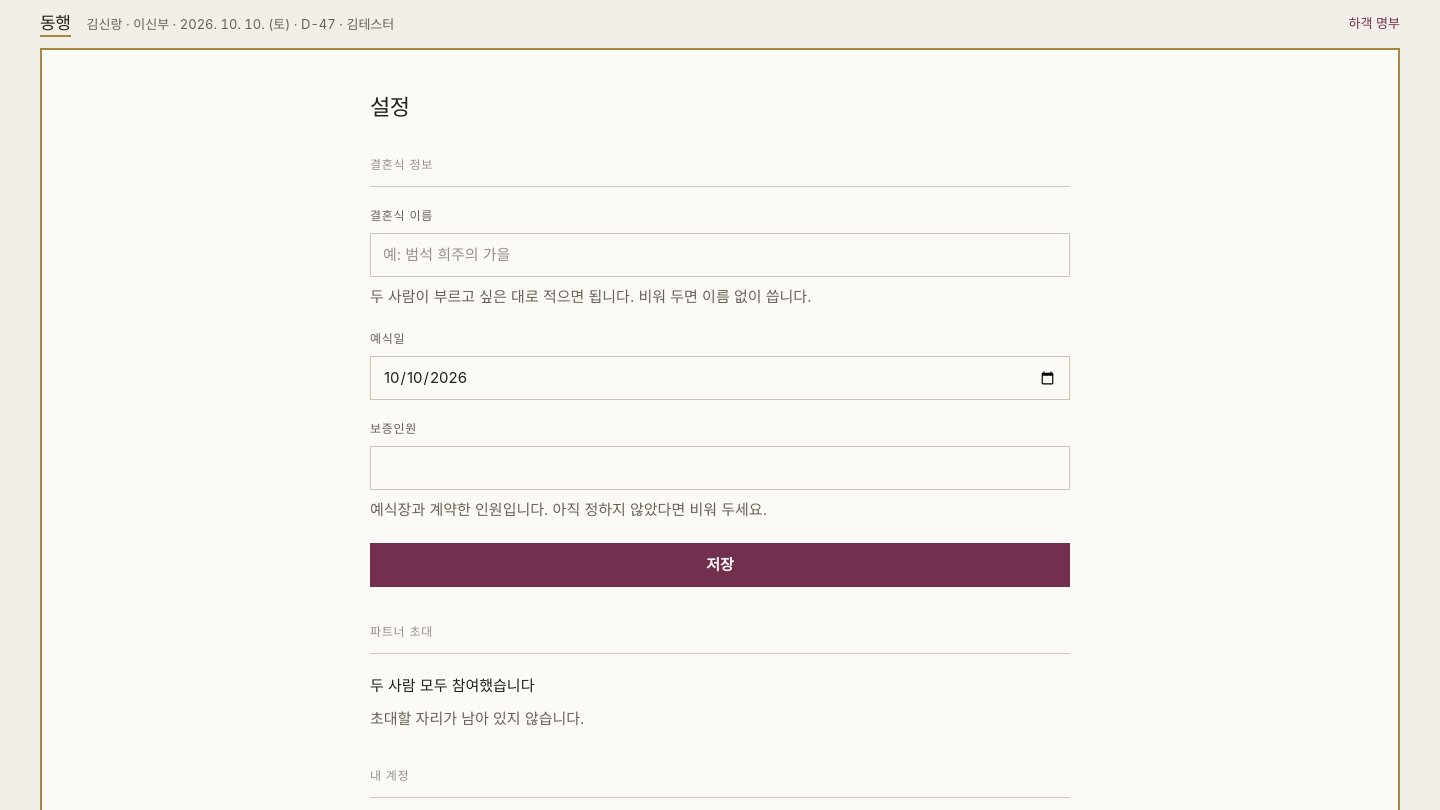
refuses to send a blank 예식일, because a wedding always has a date
Clear the date field labelled "예식일": (720, 378) [370, 356, 1070, 400]
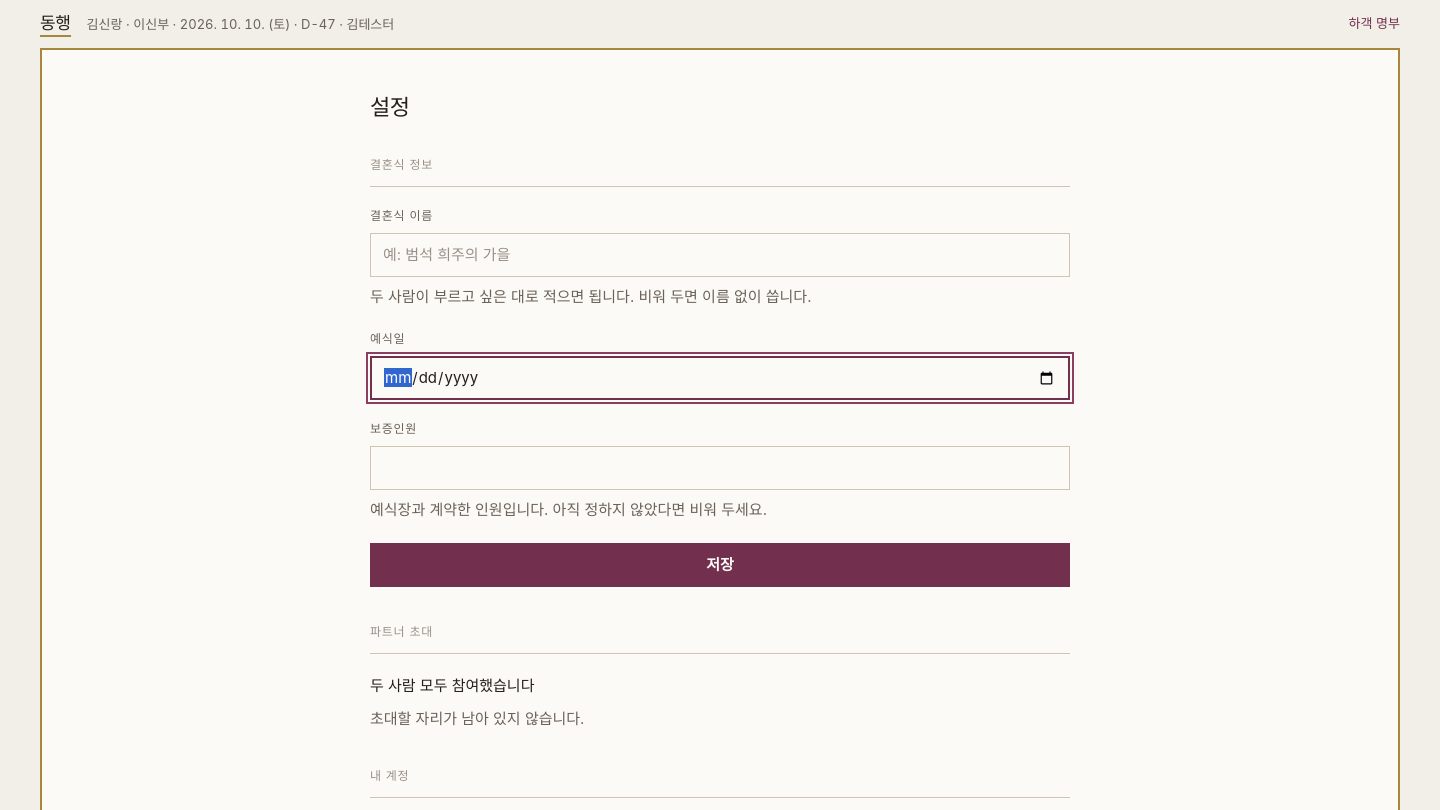
Click the button "저장": (720, 565) [370, 543, 1070, 587]
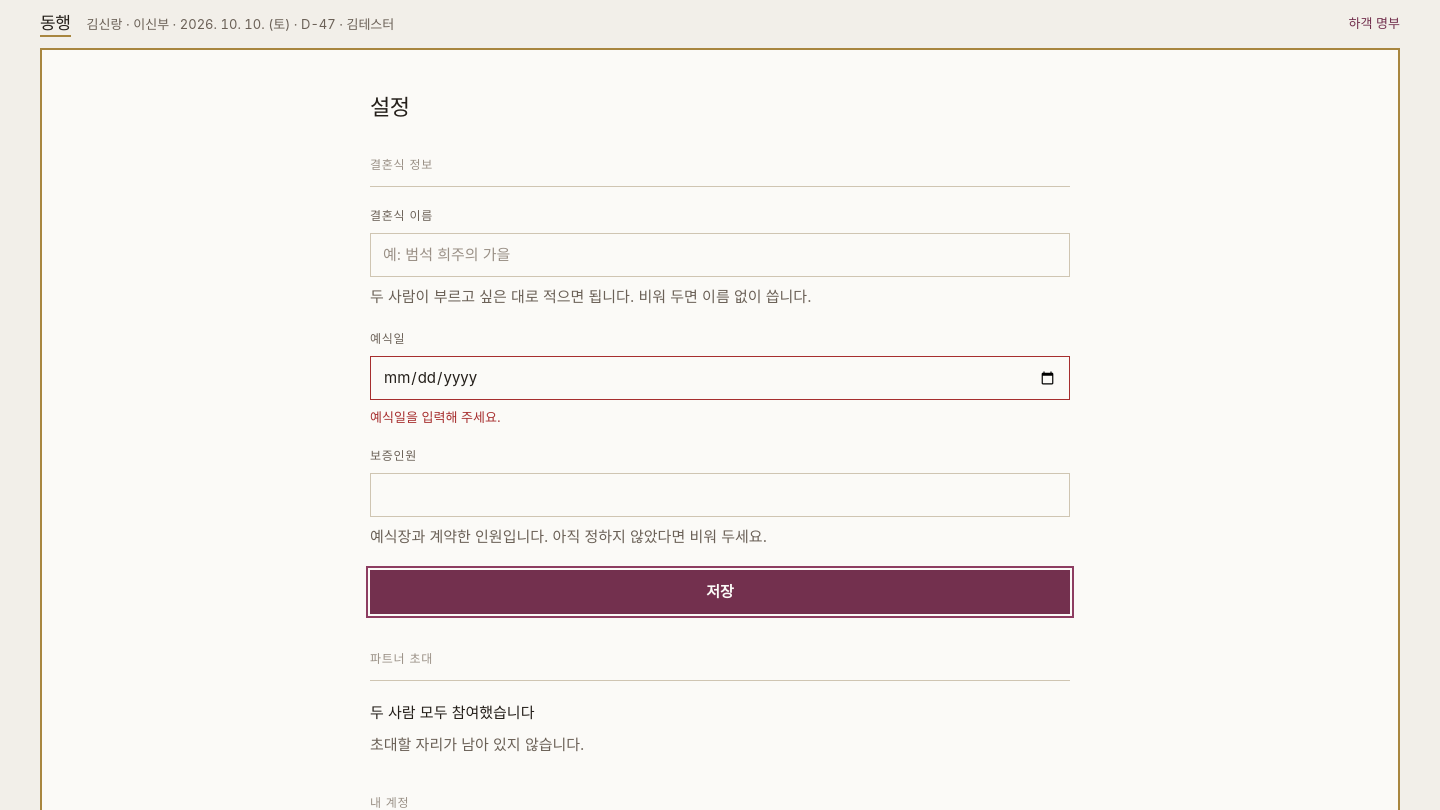
Result: the text "예식일을 입력해 주세요." is shown at [370, 409, 501, 425]
